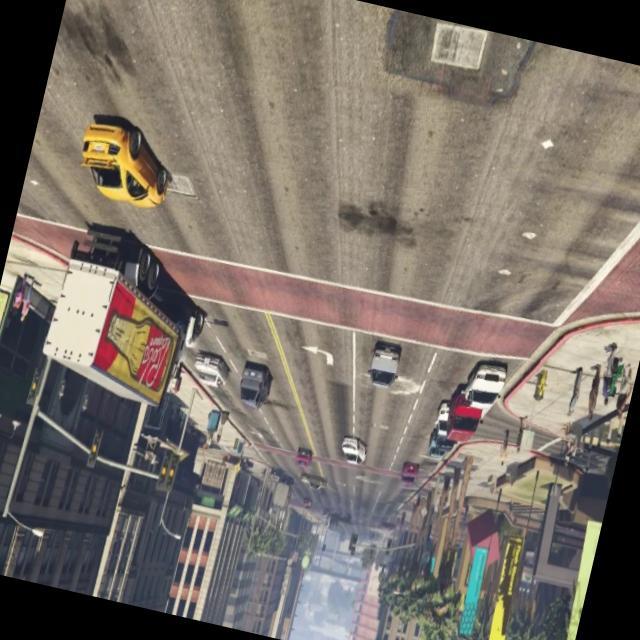Yellow-Signal: (144, 436, 189, 504), (74, 415, 114, 479), (15, 358, 50, 412)
